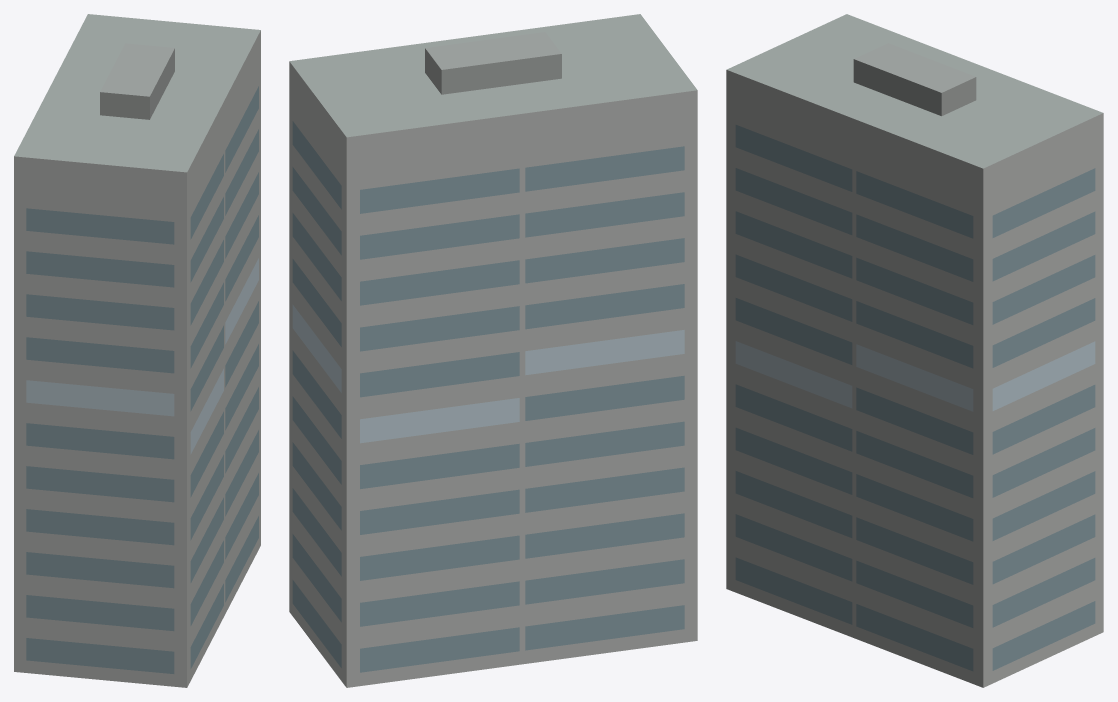
Rendered from fallback-olympic-athletes-village-244.glb.
The picture shows the model from 3 angles, left to right: view 1: azimuth 30°, elevation 25°; view 2: azimuth 150°, elevation 25°; view 3: azimuth 270°, elevation 25°; orthographic projection. The views are drawn at different scales.
Parts seen in each view (by area): view 1: fallback-olympic-athletes-village-244; view 2: fallback-olympic-athletes-village-244; view 3: fallback-olympic-athletes-village-244.
Part boxes in pixels (x1=…): fallback-olympic-athletes-village-244: x1=14, y1=14, x2=260, y2=687; fallback-olympic-athletes-village-244: x1=289, y1=14, x2=697, y2=687; fallback-olympic-athletes-village-244: x1=726, y1=14, x2=1103, y2=687.
Bounding box in the file's own units: 23.38 × 38.25 × 24.09.
